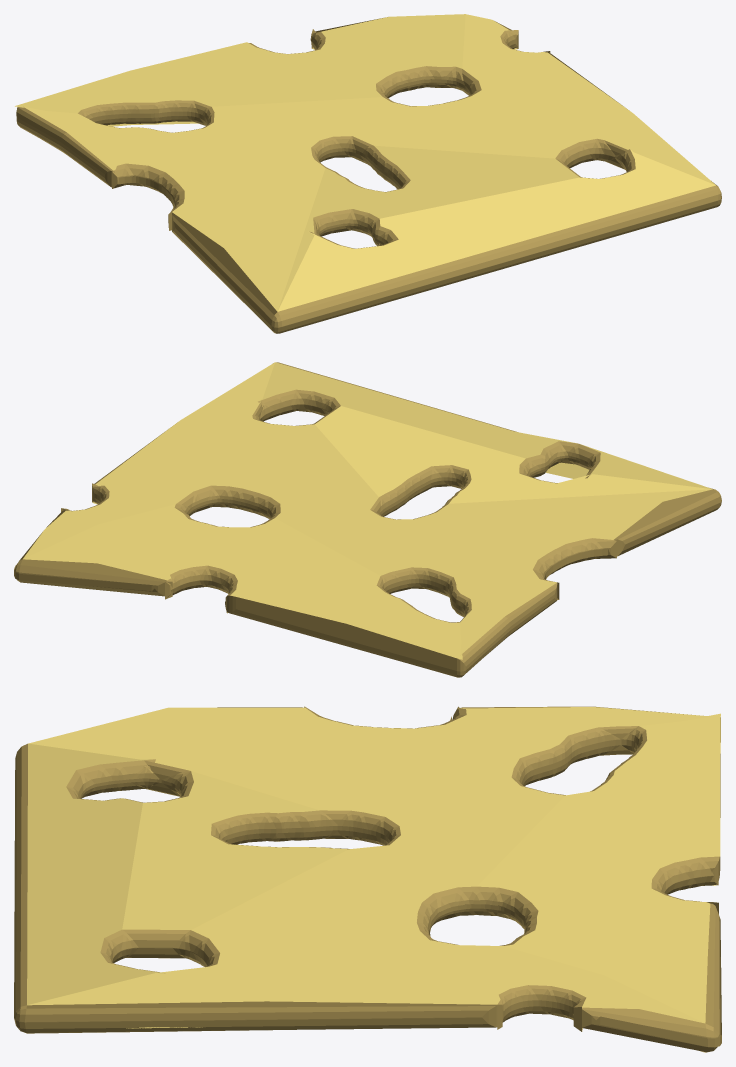
Rendered from cheese.glb.
3 views of the same model, one above another, from view 1: azimuth 30°, elevation 25°; view 2: azimuth 150°, elevation 25°; view 3: azimuth 270°, elevation 25° (orthographic). The views are drawn at different scales.
Visible parts, largest first — view 1: Plane; view 2: Plane; view 3: Plane.
Boxes of the visible parts, left/top/right/bottom form: Plane: left=15, top=14, right=721, bottom=333; Plane: left=14, top=362, right=721, bottom=677; Plane: left=14, top=706, right=721, bottom=1052.
Bounding box in the file's own units: 2 × 0.2 × 2.
